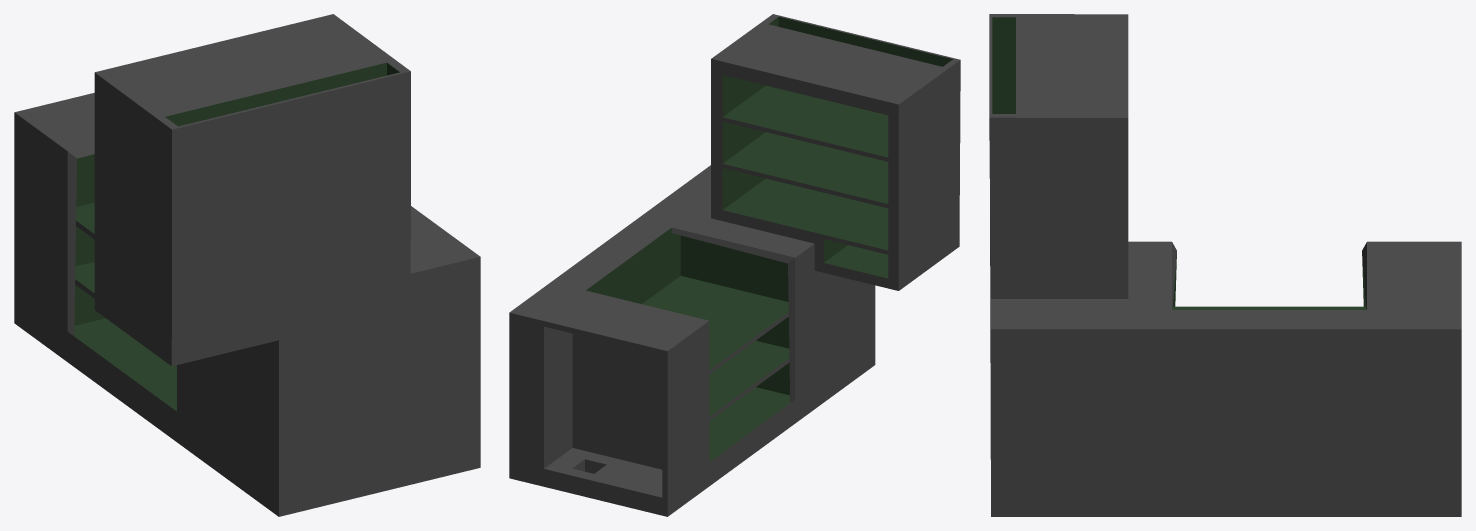
The model's file is building3.fbx.
3 renders of one model, left to right at view 1: azimuth 30°, elevation 25°; view 2: azimuth 150°, elevation 25°; view 3: azimuth 270°, elevation 25°, orthographic. The views are drawn at different scales.
Visible parts, largest first — view 1: Cube.003; view 2: Cube.003; view 3: Cube.003.
Boxes of the visible parts, x1,y1,x2,y2 form: Cube.003: (14, 14, 480, 516); Cube.003: (509, 14, 960, 516); Cube.003: (989, 14, 1461, 516).
Size of the model in its own units: 6.01 by 7.69 by 8.93.
